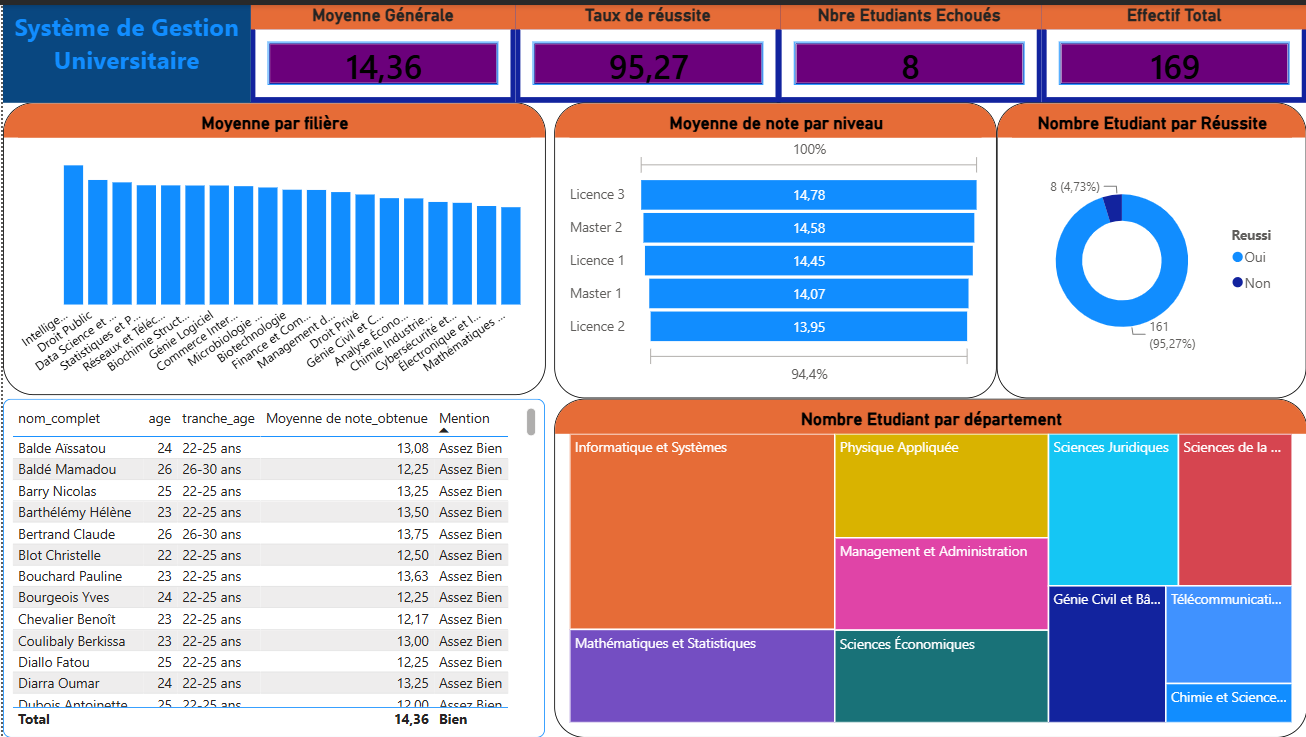

What the dashboard file says about the page in this screenshot:
{"tool":"powerbi","page":{"name":"Page 1","canvas":[1280,720],"ordinal":0},"visuals":[{"type":"columnChart","title":"Moyenne  par filière","fields":{"Category":["DIM_FILIERE.nom_filiere"],"Y":["Avg(FAIT_NOTE.note_obtenue)"]},"box":[0,95.7,532.5,287.1],"z":0},{"type":"cardVisual","title":"Effectif Total","fields":{"Data":["CountNonNull(FAIT_NOTE.id_etudiant_dim)"]},"box":[1019.6,0,260.1,95.7],"z":1000},{"type":"cardVisual","title":"Nbre Etudiants Echoués","fields":{"Data":["DIM_DATE.Nb_Echoue"]},"box":[759.5,0,260.1,95.7],"z":2000},{"type":"cardVisual","title":"Taux de réussite","fields":{"Data":["DIM_DATE.Taux_Reussite"]},"box":[503.1,0,260.1,95.7],"z":3000},{"type":"cardVisual","title":"Moyenne  Générale","fields":{"Data":["Avg(FAIT_NOTE.note_obtenue)"]},"box":[242.9,0,260.1,95.7],"z":4000},{"type":"donutChart","title":"Nombre Etudiant par Réussite","fields":{"Y":["CountNonNull(FAIT_NOTE.id_etudiant_dim)"],"Category":["FAIT_NOTE.Reussi"]},"box":[975.5,95.7,304.3,290.8],"z":5000},{"type":"treemap","title":"Nombre Etudiant par département","fields":{"Group":["DIM_FILIERE.nom_departement"],"Values":["CountNonNull(FAIT_NOTE.id_etudiant_dim)"]},"box":[541.1,387.1,739.2,332.7],"z":6000},{"type":"tableEx","fields":{"Values":["DIM_ETUDIANT.nom_complet","DIM_ETUDIANT.age","DIM_ETUDIANT.tranche_age","Avg(FAIT_NOTE.note_obtenue)","DIM_DATE.Mention"]},"box":[0,387.1,532,332.7],"z":7000},{"type":"funnel","title":"Moyenne de note par niveau","fields":{"Category":["DIM_NIVEAU.nom_niveau"],"Y":["Avg(FAIT_NOTE.note_obtenue)"]},"box":[541.1,95.7,434.4,290.8],"z":8000},{"type":"textbox","box":[0,0,242.9,95.7],"z":8002}]}

Visuals, with their boxes in screenshot pixels (x1, y1, x2, y2), scaled from the page's 1280x720 canvas onto the 1306x737 screenshot:
"Moyenne  par filière" columnChart: [0, 98, 543, 392]
"Effectif Total" cardVisual: [1040, 0, 1305, 98]
"Nbre Etudiants Echoués" cardVisual: [775, 0, 1040, 98]
"Taux de réussite" cardVisual: [513, 0, 779, 98]
"Moyenne  Générale" cardVisual: [248, 0, 513, 98]
"Nombre Etudiant par Réussite" donutChart: [995, 98, 1305, 396]
"Nombre Etudiant par département" treemap: [552, 396, 1305, 736]
tableEx - DIM_ETUDIANT.nom_complet x DIM_ETUDIANT.age: [0, 396, 543, 736]
"Moyenne de note par niveau" funnel: [552, 98, 995, 396]
textbox: [0, 0, 248, 98]
